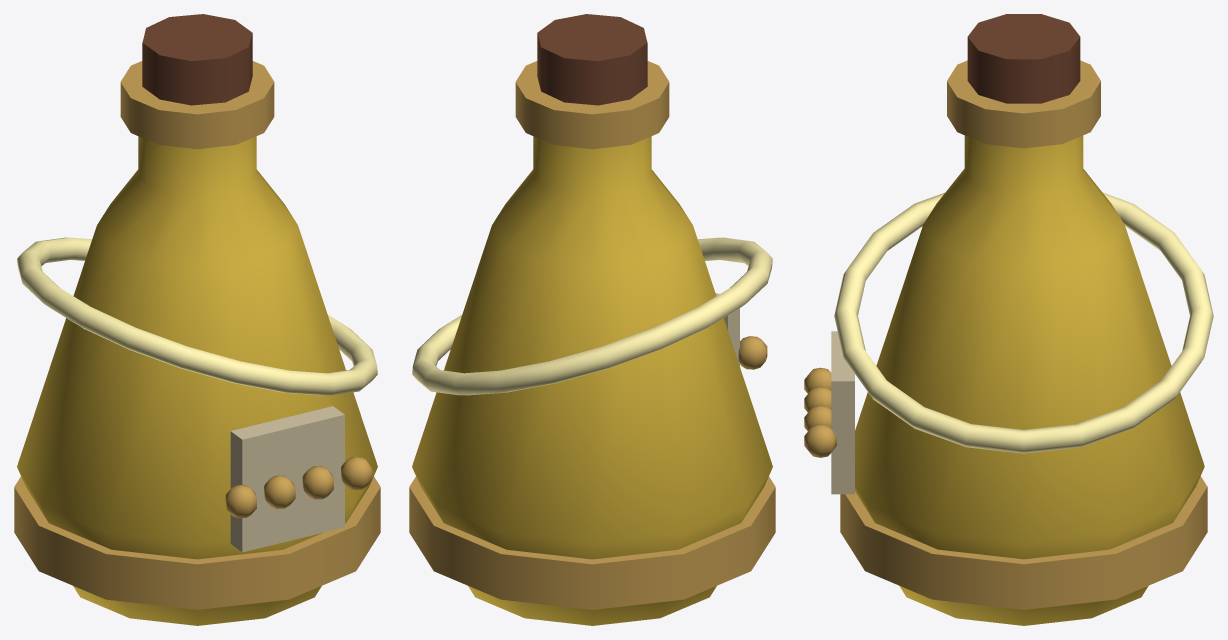
Rendered from megalixir.fbx.
The picture shows the model from 3 angles, left to right: view 1: azimuth 30°, elevation 25°; view 2: azimuth 150°, elevation 25°; view 3: azimuth 270°, elevation 25°; orthographic projection.
Visible parts, largest first — view 1: megalixir; view 2: megalixir; view 3: megalixir.
Part boxes in pixels (box(x1,y1,x2,y2)): megalixir: box(14, 14, 380, 625); megalixir: box(409, 14, 775, 625); megalixir: box(804, 14, 1213, 625).
Size of the model in its own units: 0.6191 by 0.99 by 0.6906.
